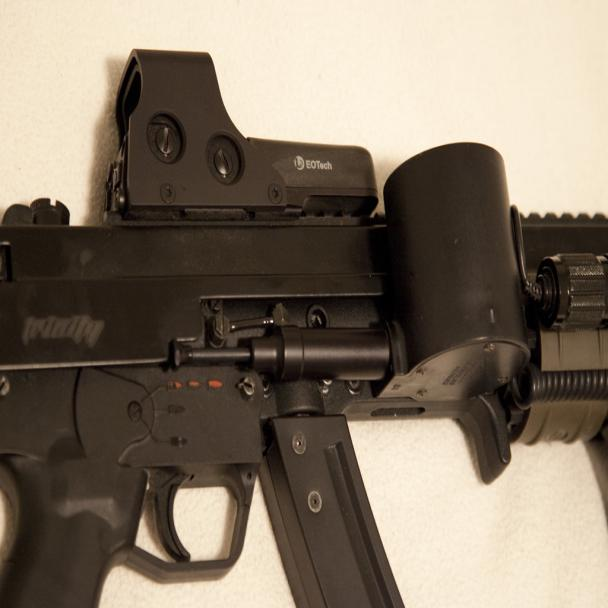Gun: (2, 45, 608, 608)
